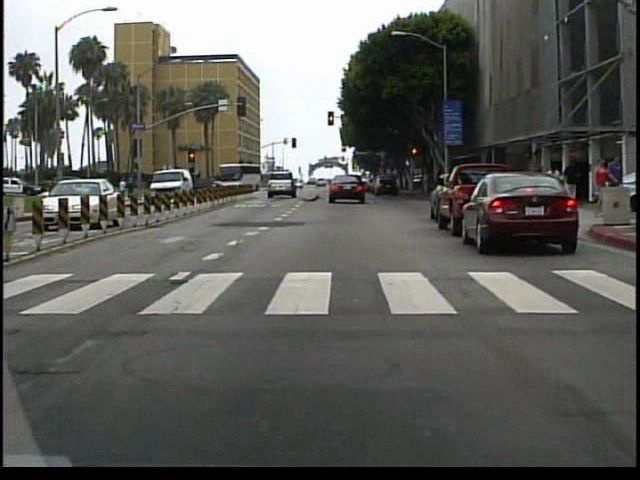person: (587, 159, 608, 222), (599, 155, 620, 192), (563, 158, 580, 203), (117, 176, 131, 204), (127, 177, 140, 194)
